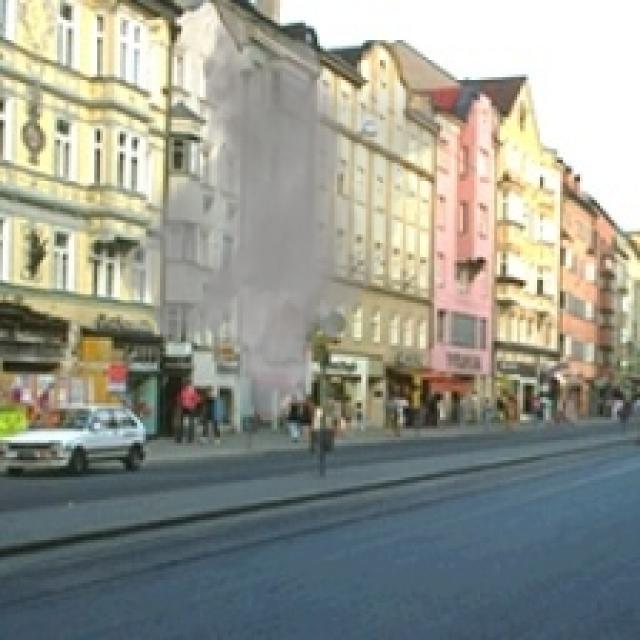Smoke: (108, 17, 454, 423)
